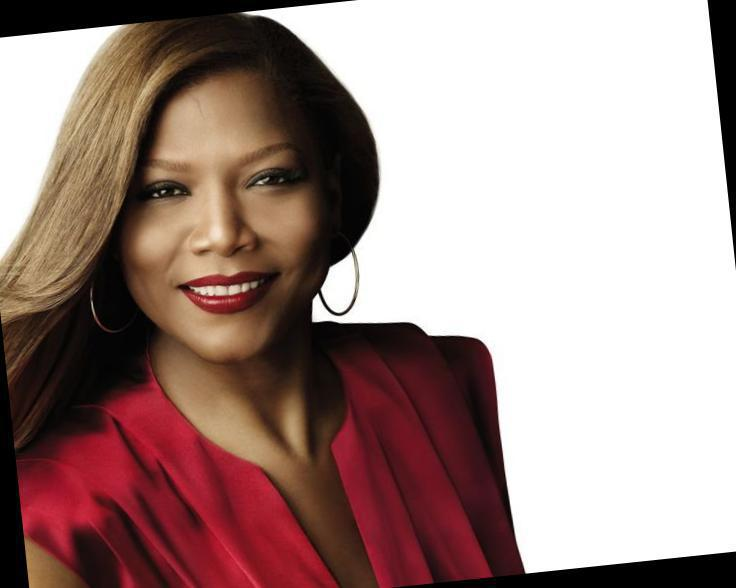Sober: (127, 88, 322, 339)
